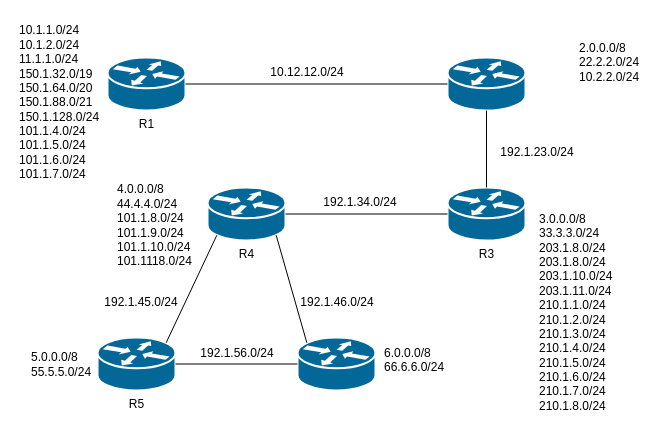
This 656x430 diagram has some shape labels left out. Each missing label, with the centre of its shape:
R2: pixel 486 83
R6: pixel 336 363
